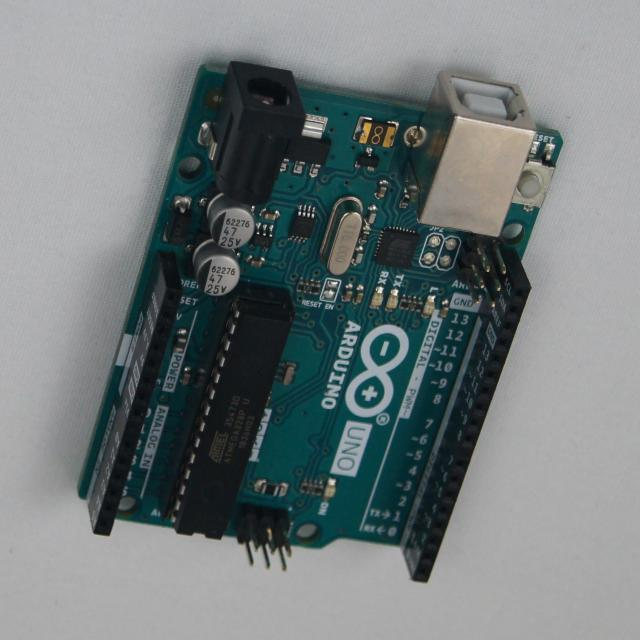Arduino Uno -Green-: (80, 62, 562, 582)
